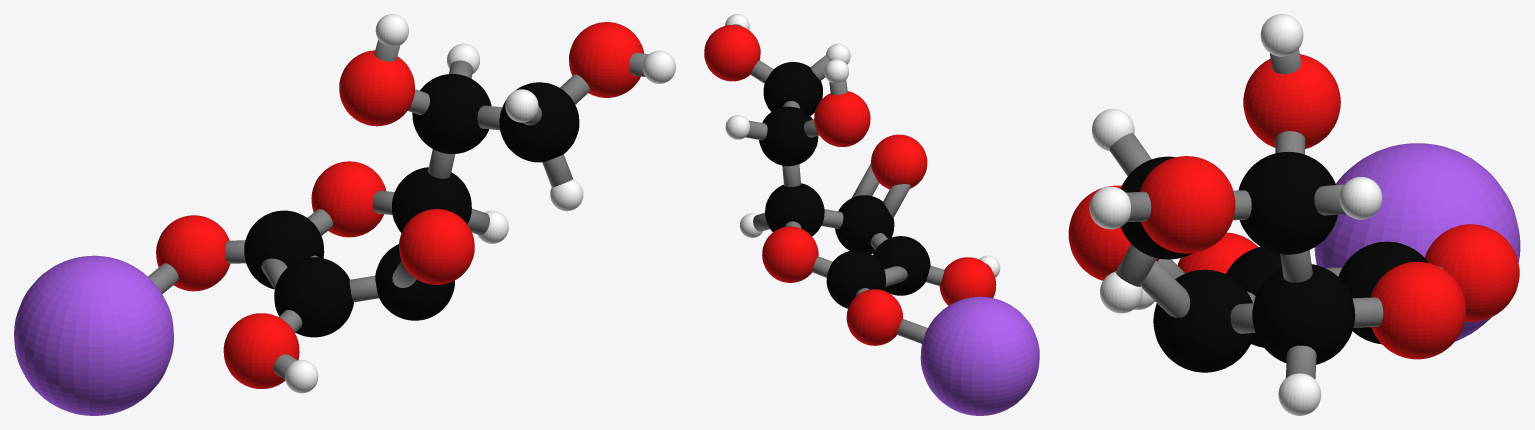
Rendered from ERITORBATO SODICO.obj.
The picture shows the model from 3 angles, left to right: view 1: azimuth 30°, elevation 25°; view 2: azimuth 150°, elevation 25°; view 3: azimuth 270°, elevation 25°; orthographic projection. The views are drawn at different scales.
Parts seen in each view (by area): view 1: Oxygen_ball_Sphere, Carbon_ball_Sphere.001, Sodium_ball_Sphere.002, Hydrogen_ball_Sphere.003, Stick_Cylinder.012_Cylinder.012, Stick_Cylinder.003_Cylinder.003, Stick_Cylinder.017_Cylinder.017; view 2: Oxygen_ball_Sphere, Carbon_ball_Sphere.001, Sodium_ball_Sphere.002, Hydrogen_ball_Sphere.003, Stick_Cylinder.002_Cylinder.002, Stick_Cylinder.007_Cylinder.007, Stick_Cylinder.021_Cylinder.021, Stick_Cylinder.017_Cylinder.017, Stick_Cylinder.020_Cylinder.020, Stick_Cylinder.004_Cylinder.004, Stick_Cylinder.010_Cylinder.010; view 3: Oxygen_ball_Sphere, Carbon_ball_Sphere.001, Sodium_ball_Sphere.002, Hydrogen_ball_Sphere.003, Stick_Cylinder.021_Cylinder.021, Stick_Cylinder.012_Cylinder.012, Stick_Cylinder.011_Cylinder.011, Stick_Cylinder.016_Cylinder.016, Stick_Cylinder.017_Cylinder.017, Stick_Cylinder.001_Cylinder.001, Stick_Cylinder.010_Cylinder.010, Stick_Cylinder.004_Cylinder.004 (+4 smaller).
Boxes of the visible parts, x1,y1,x2,y2 form: Oxygen_ball_Sphere: [156, 22, 644, 388]; Carbon_ball_Sphere.001: [244, 74, 579, 337]; Sodium_ball_Sphere.002: [14, 255, 173, 415]; Hydrogen_ball_Sphere.003: [285, 14, 675, 393]; Stick_Cylinder.012_Cylinder.012: [542, 154, 573, 187]; Stick_Cylinder.003_Cylinder.003: [349, 275, 378, 302]; Stick_Cylinder.017_Cylinder.017: [428, 149, 455, 178]; Oxygen_ball_Sphere: [704, 25, 996, 345]; Carbon_ball_Sphere.001: [759, 62, 930, 308]; Sodium_ball_Sphere.002: [920, 296, 1039, 415]; Hydrogen_ball_Sphere.003: [725, 14, 1000, 277]; Stick_Cylinder.002_Cylinder.002: [883, 184, 910, 218]; Stick_Cylinder.007_Cylinder.007: [897, 319, 927, 343]; Stick_Cylinder.021_Cylinder.021: [852, 163, 879, 197]; Stick_Cylinder.017_Cylinder.017: [782, 164, 800, 186]; Stick_Cylinder.020_Cylinder.020: [884, 266, 907, 286]; Stick_Cylinder.004_Cylinder.004: [821, 209, 843, 228]; Stick_Cylinder.010_Cylinder.010: [745, 120, 767, 140]; Oxygen_ball_Sphere: [1068, 54, 1519, 359]; Carbon_ball_Sphere.001: [1120, 151, 1428, 372]; Sodium_ball_Sphere.002: [1314, 143, 1520, 341]; Hydrogen_ball_Sphere.003: [1089, 14, 1382, 415]; Stick_Cylinder.021_Cylinder.021: [1142, 260, 1190, 317]; Stick_Cylinder.012_Cylinder.012: [1115, 244, 1156, 286]; Stick_Cylinder.011_Cylinder.011: [1109, 133, 1151, 175]; Stick_Cylinder.016_Cylinder.016: [1285, 345, 1316, 379]; Stick_Cylinder.017_Cylinder.017: [1280, 250, 1312, 282]; Stick_Cylinder.001_Cylinder.001: [1352, 297, 1383, 327]; Stick_Cylinder.010_Cylinder.010: [1314, 184, 1345, 215]; Stick_Cylinder.004_Cylinder.004: [1230, 303, 1255, 333].
Size of the model in its own units: 10.57 by 7.09 by 6.08.
